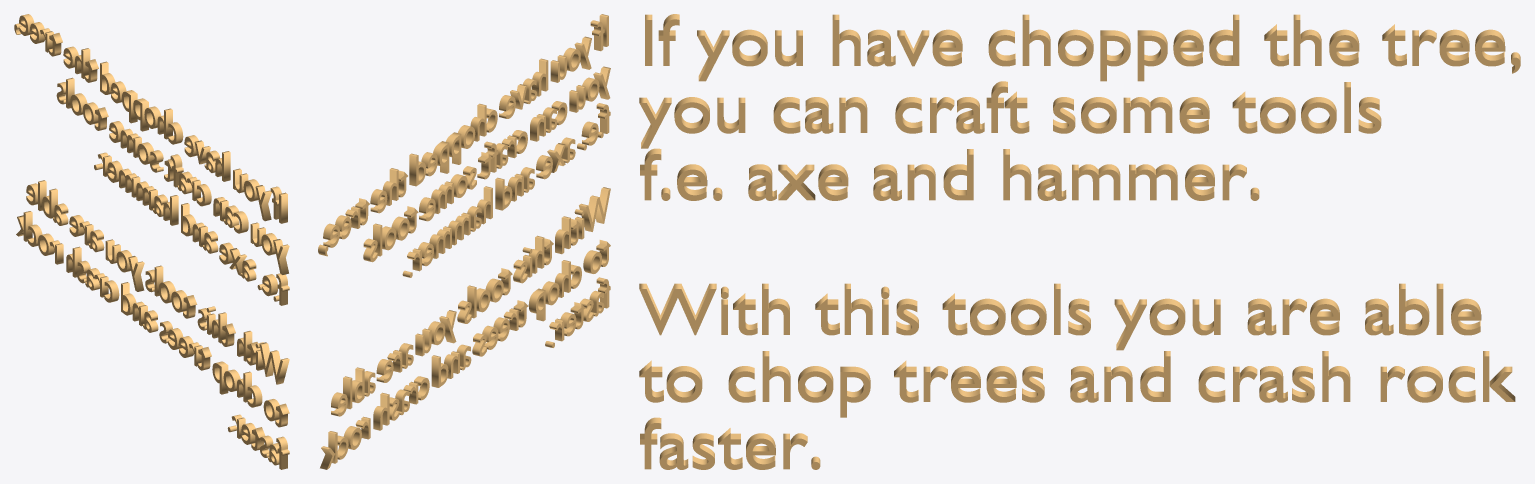
Rendered from third.fbx.
3 renders of one model, left to right at view 1: azimuth 30°, elevation 25°; view 2: azimuth 150°, elevation 25°; view 3: azimuth 270°, elevation 25°, orthographic. The views are drawn at different scales.
Parts seen in each view (by area): view 1: Text; view 2: Text; view 3: Text.
Boxes of the visible parts, x1,y1,x2,y2 form: Text: (14, 14, 289, 469); Text: (318, 14, 610, 469); Text: (639, 14, 1520, 469).
Bounding box in the file's own units: 17.2 × 670 × 1188.
